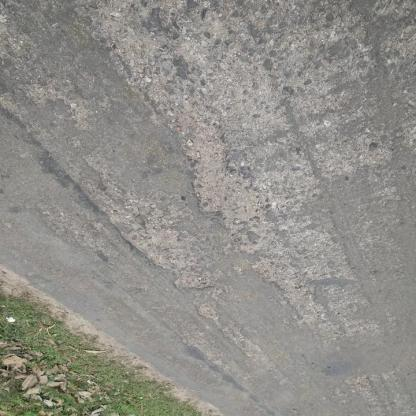pothole: (113, 210, 218, 296), (185, 137, 267, 231)
